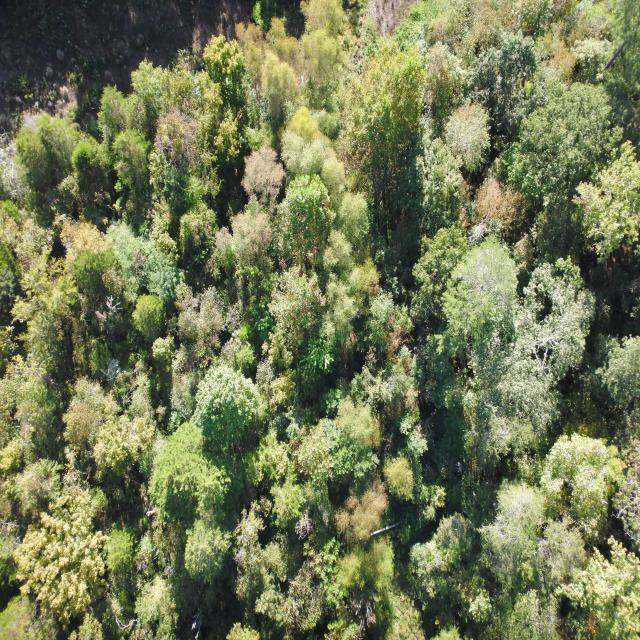Area of Interest: (3, 12, 631, 628)
